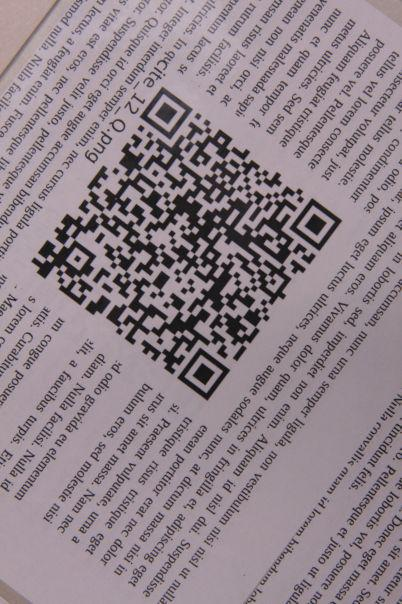Finder pattern: (136, 85, 194, 139), (289, 199, 344, 253), (176, 349, 230, 403)
